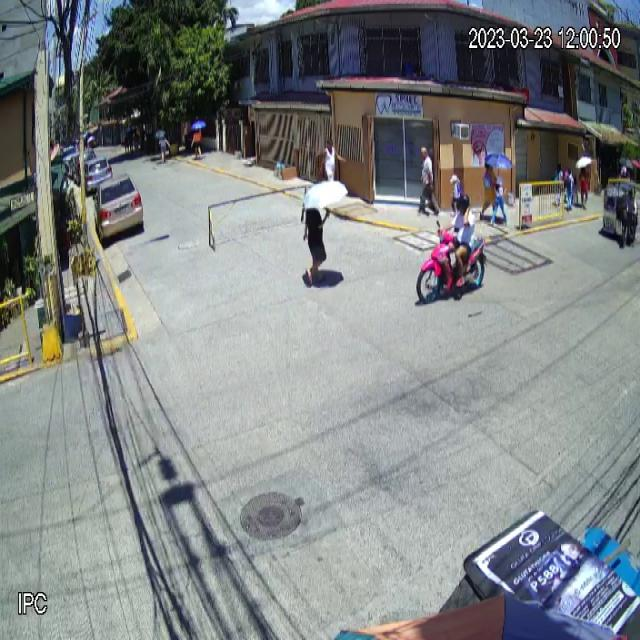Motorcycle: (416, 218, 487, 304)
